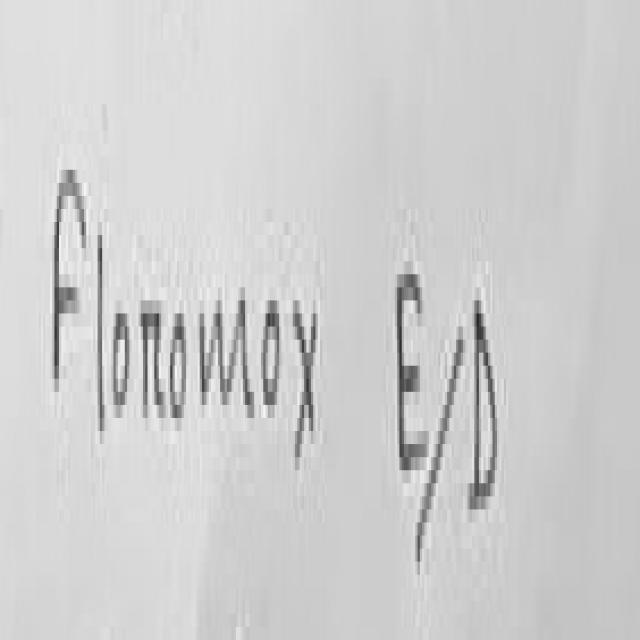F: (52, 156, 88, 407)
l: (98, 230, 104, 424)
o: (110, 313, 129, 420)
